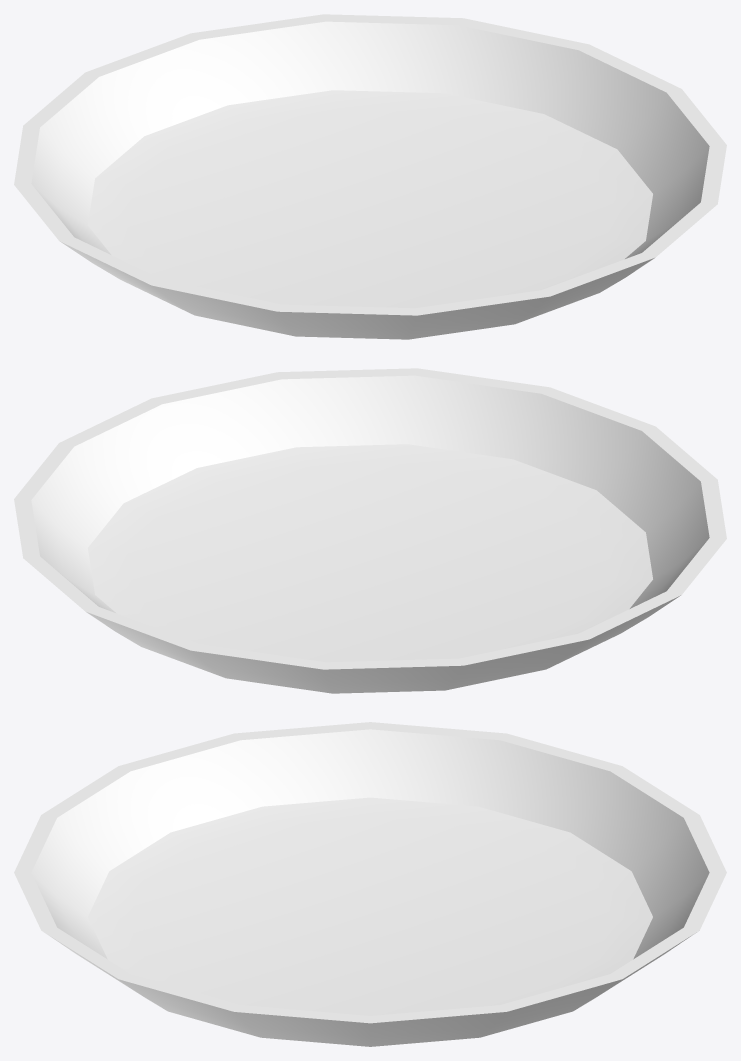
Rendered from LP_plate.glb.
The picture shows the model from 3 angles, top to bottom: view 1: azimuth 30°, elevation 25°; view 2: azimuth 150°, elevation 25°; view 3: azimuth 270°, elevation 25°; orthographic projection.
Visible parts, largest first — view 1: LP_plate.001; view 2: LP_plate.001; view 3: LP_plate.001.
Boxes of the visible parts, left/top/right/bottom form: LP_plate.001: left=14, top=14, right=726, bottom=339; LP_plate.001: left=14, top=368, right=726, bottom=693; LP_plate.001: left=14, top=722, right=726, bottom=1046.
Size of the model in its own units: 0.1737 by 0.0143 by 0.1737.
Materials: 1 (1 with a texture image).
